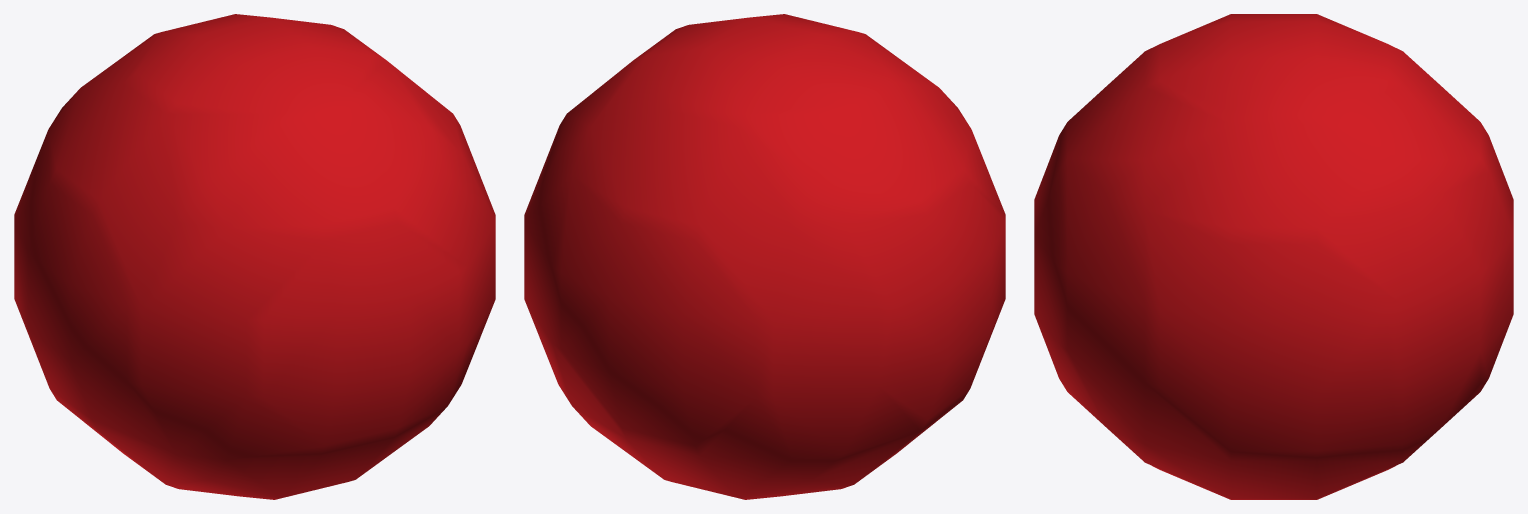
The model's file is ShinySphere.obj.
3 renders of one model, left to right at view 1: azimuth 30°, elevation 25°; view 2: azimuth 150°, elevation 25°; view 3: azimuth 270°, elevation 25°, orthographic.
Parts seen in each view (by area): view 1: Mball; view 2: Mball; view 3: Mball.
Part boxes in pixels (x1,y1,x2,y2): Mball: (14,14,495,499); Mball: (524,14,1005,499); Mball: (1034,14,1513,499).
Bounding box in the file's own units: 2.23 × 2.23 × 2.23.
